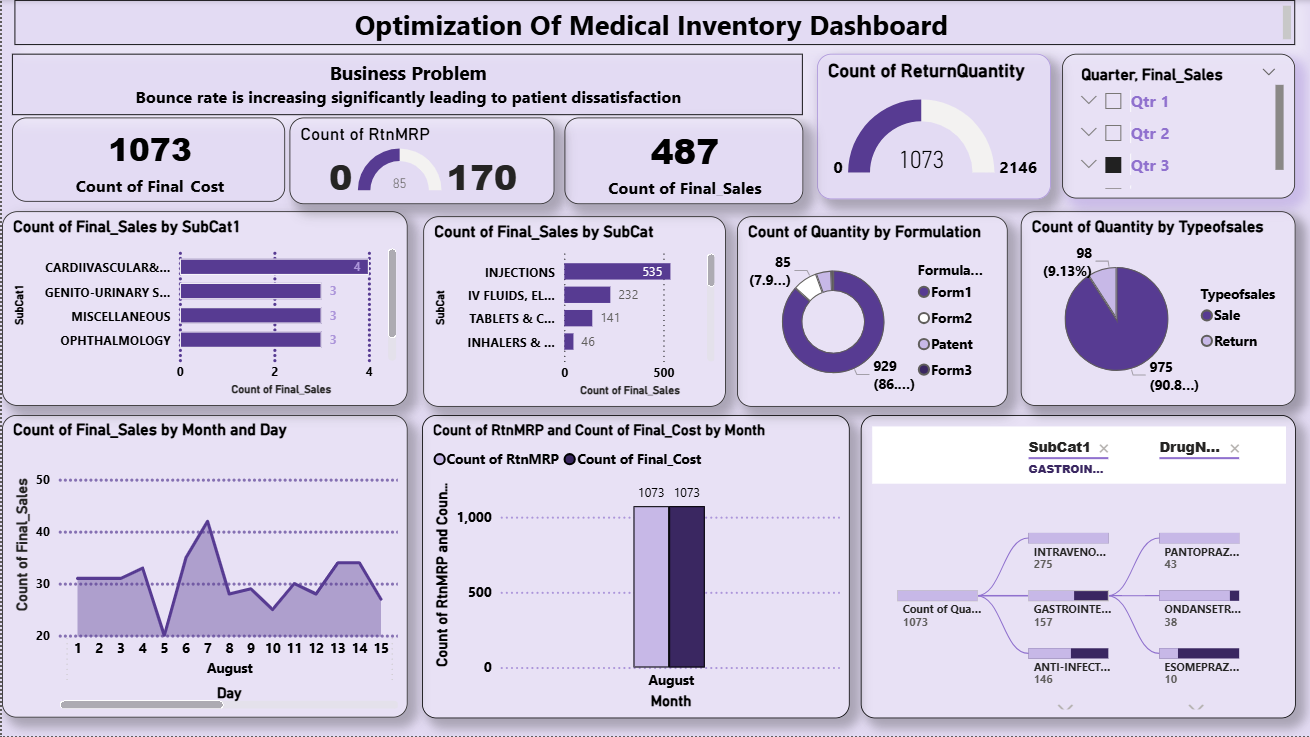

Layout of this report page (visuals, bound fields, positions):
{"tool":"powerbi","page":{"name":"Page 5","canvas":[1280,720],"ordinal":4},"visuals":[{"type":"textbox","box":[12.3,0,1252.8,43.9],"z":0},{"type":"textbox","box":[9.6,52.1,773.9,60.4],"z":1000},{"type":"gauge","fields":{"Y":["CountNonNull(Projectfinaldata (1).ReturnQuantity)"]},"box":[797.3,52.1,229.2,142.7],"z":2000},{"type":"slicer","fields":{"Values":["Projectfinaldata (1).Dateofbill.Variation.Date Hierarchy.Quarter","Projectfinaldata (1).Final_Sales"]},"box":[1037.4,52.1,227.8,141.3],"z":3000},{"type":"card","fields":{"Values":["CountNonNull(Projectfinaldata (1).Final_Cost)"]},"box":[9.6,115.3,267.6,82.3],"z":4000},{"type":"gauge","fields":{"Y":["Count(Projectfinaldata (1).RtnMRP)"]},"box":[281.3,115.3,259.3,85.1],"z":5000},{"type":"card","fields":{"Values":["Count(Projectfinaldata (1).Final_Sales)"]},"box":[550.3,115.3,233.3,85.1],"z":6000},{"type":"clusteredBarChart","fields":{"Y":["CountNonNull(Projectfinaldata (1).Final_Sales)"],"Category":["Projectfinaldata (1).SubCat1"]},"box":[0,207.2,396.6,190.7],"z":7000},{"type":"clusteredBarChart","fields":{"Category":["Projectfinaldata (1).SubCat"],"Y":["CountNonNull(Projectfinaldata (1).Final_Sales)"]},"box":[411.7,211.3,296.4,186.6],"z":8000},{"type":"pieChart","fields":{"Category":["Projectfinaldata (1).Typeofsales"],"Y":["CountNonNull(Projectfinaldata (1).Quantity)"]},"box":[996.6,206.7,269,190.8],"z":9000},{"type":"donutChart","fields":{"Category":["Projectfinaldata (1).Formulation"],"Y":["CountNonNull(Projectfinaldata (1).Quantity)"]},"box":[719,211.3,264.8,186.6],"z":10000},{"type":"areaChart","fields":{"Y":["CountNonNull(Projectfinaldata (1).Final_Sales)"],"Category":["Projectfinaldata (1).Dateofbill.Variation.Date Hierarchy.Month","Projectfinaldata (1).Dateofbill.Variation.Date Hierarchy.Day"]},"box":[0,406.2,396.6,296.4],"z":11000},{"type":"decompositionTreeVisual","fields":{"Analyze":["CountNonNull(Projectfinaldata (1).Quantity)"],"ExplainBy":["Projectfinaldata (1).SubCat1","Projectfinaldata (1).DrugName"]},"box":[840.1,406,425.5,297.1],"z":12000},{"type":"clusteredColumnChart","fields":{"Category":["Projectfinaldata (1).Dateofbill.Variation.Date Hierarchy.Month","Projectfinaldata (1).Dateofbill.Variation.Date Hierarchy.Day"],"Y":["CountNonNull(Projectfinaldata (1).RtnMRP)","CountNonNull(Projectfinaldata (1).Final_Cost)"]},"box":[410.9,406,418.2,297.1],"z":13000}]}

Visuals, with their boxes in screenshot pixels (x1, y1, x2, y2), scaled from the page's 1280x720 canvas onto the 1310x737 screenshot:
textbox: 13 0 1295 45
textbox: 10 53 802 115
gauge - CountNonNull(Projectfinaldata (1).ReturnQuantity): 816 53 1051 199
slicer - Projectfinaldata (1).Dateofbill.Variation.Date Hierarchy.Quarter x Projectfinaldata (1).Final_Sales: 1062 53 1295 198
card - CountNonNull(Projectfinaldata (1).Final_Cost): 10 118 284 202
gauge - Count(Projectfinaldata (1).RtnMRP): 288 118 553 205
card - Count(Projectfinaldata (1).Final_Sales): 563 118 802 205
clusteredBarChart - CountNonNull(Projectfinaldata (1).Final_Sales) x Projectfinaldata (1).SubCat1: 0 212 406 407
clusteredBarChart - Projectfinaldata (1).SubCat x CountNonNull(Projectfinaldata (1).Final_Sales): 421 216 725 407
pieChart - Projectfinaldata (1).Typeofsales x CountNonNull(Projectfinaldata (1).Quantity): 1020 212 1295 407
donutChart - Projectfinaldata (1).Formulation x CountNonNull(Projectfinaldata (1).Quantity): 736 216 1007 407
areaChart - CountNonNull(Projectfinaldata (1).Final_Sales) x Projectfinaldata (1).Dateofbill.Variation.Date Hierarchy.Month: 0 416 406 719
decompositionTreeVisual - CountNonNull(Projectfinaldata (1).Quantity) x Projectfinaldata (1).SubCat1: 860 416 1295 720
clusteredColumnChart - Projectfinaldata (1).Dateofbill.Variation.Date Hierarchy.Month x Projectfinaldata (1).Dateofbill.Variation.Date Hierarchy.Day: 421 416 849 720
